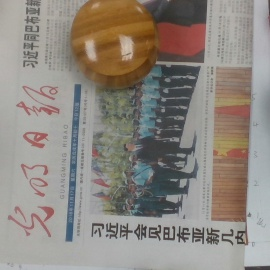chess: (70, 1, 159, 88)
